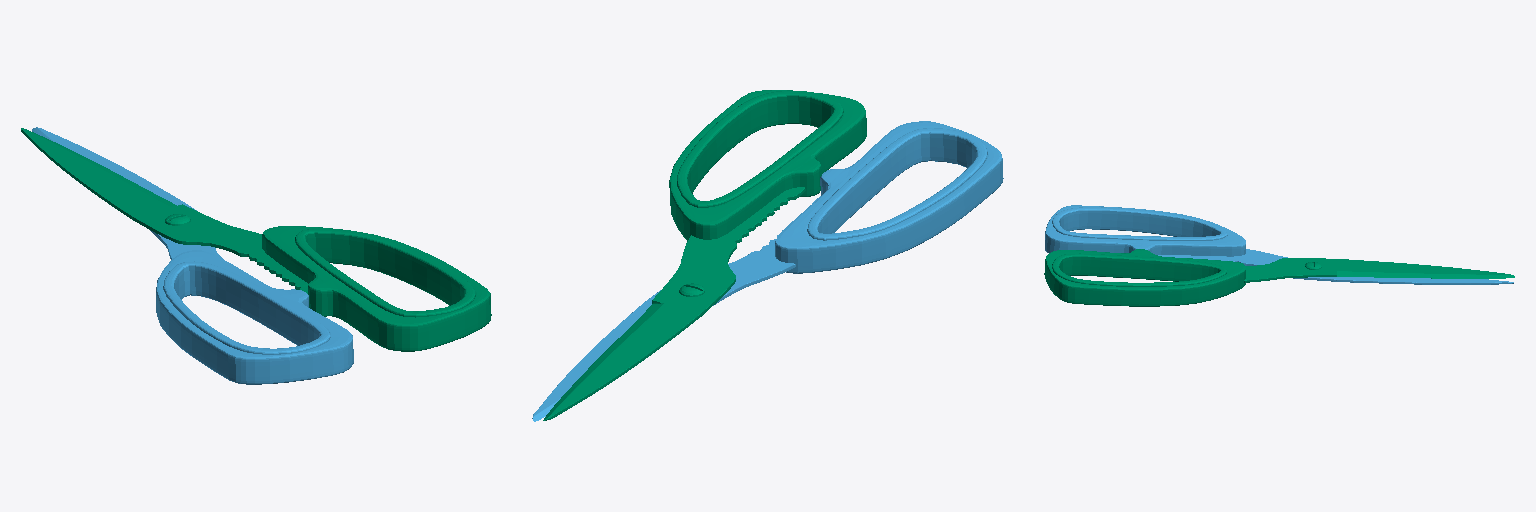
The robot description file, URDF, robot "partnet_37b7ae02-618a-4128-ba7d-9a9bd9bd2112":
<?xml version="1.0" ?>
<robot name="partnet_37b7ae02-618a-4128-ba7d-9a9bd9bd2112">
	<link name="base"/>
	<link name="link_0">
		<visual name="blade-11">
			<origin xyz="0.3778957206091483 0 -0.0018079555481076521"/>
			<geometry>
				<mesh filename="textured_objs/new-1.obj"/>
			</geometry>
		</visual>
		<visual name="handle-12">
			<origin xyz="0.3778957206091483 0 -0.0018079555481076521"/>
			<geometry>
				<mesh filename="textured_objs/new-0.obj"/>
			</geometry>
		</visual>
		<visual name="handle-12">
			<origin xyz="0.3778957206091483 0 -0.0018079555481076521"/>
			<geometry>
				<mesh filename="textured_objs/original-2.obj"/>
			</geometry>
		</visual>
		<visual name="handle-12">
			<origin xyz="0.3778957206091483 0 -0.0018079555481076521"/>
			<geometry>
				<mesh filename="textured_objs/original-1.obj"/>
			</geometry>
		</visual>
		<collision>
			<origin xyz="0.3778957206091483 0 -0.0018079555481076521"/>
			<geometry>
				<mesh filename="textured_objs/new-1.obj"/>
			</geometry>
		</collision>
		<collision>
			<origin xyz="0.3778957206091483 0 -0.0018079555481076521"/>
			<geometry>
				<mesh filename="textured_objs/new-0.obj"/>
			</geometry>
		</collision>
		<collision>
			<origin xyz="0.3778957206091483 0 -0.0018079555481076521"/>
			<geometry>
				<mesh filename="textured_objs/original-2.obj"/>
			</geometry>
		</collision>
		<collision>
			<origin xyz="0.3778957206091483 0 -0.0018079555481076521"/>
			<geometry>
				<mesh filename="textured_objs/original-1.obj"/>
			</geometry>
		</collision>
	</link>
	<joint name="joint_0" type="revolute">
		<origin xyz="-0.3778957206091483 0 0.0018079555481076521"/>
		<axis xyz="0 -1 0"/>
		<child link="link_0"/>
		<parent link="link_1"/>
		<limit lower="-0.050265482457436686" upper="0.722566310325652"/>
	</joint>
	<link name="link_1">
		<visual name="screw-10">
			<origin xyz="0 0 0"/>
			<geometry>
				<mesh filename="textured_objs/original-7.obj"/>
			</geometry>
		</visual>
		<visual name="blade-13">
			<origin xyz="0 0 0"/>
			<geometry>
				<mesh filename="textured_objs/new-3.obj"/>
			</geometry>
		</visual>
		<visual name="handle-14">
			<origin xyz="0 0 0"/>
			<geometry>
				<mesh filename="textured_objs/original-5.obj"/>
			</geometry>
		</visual>
		<visual name="handle-14">
			<origin xyz="0 0 0"/>
			<geometry>
				<mesh filename="textured_objs/new-2.obj"/>
			</geometry>
		</visual>
		<visual name="handle-14">
			<origin xyz="0 0 0"/>
			<geometry>
				<mesh filename="textured_objs/original-4.obj"/>
			</geometry>
		</visual>
		<collision>
			<origin xyz="0 0 0"/>
			<geometry>
				<mesh filename="textured_objs/original-7.obj"/>
			</geometry>
		</collision>
		<collision>
			<origin xyz="0 0 0"/>
			<geometry>
				<mesh filename="textured_objs/new-3.obj"/>
			</geometry>
		</collision>
		<collision>
			<origin xyz="0 0 0"/>
			<geometry>
				<mesh filename="textured_objs/original-5.obj"/>
			</geometry>
		</collision>
		<collision>
			<origin xyz="0 0 0"/>
			<geometry>
				<mesh filename="textured_objs/new-2.obj"/>
			</geometry>
		</collision>
		<collision>
			<origin xyz="0 0 0"/>
			<geometry>
				<mesh filename="textured_objs/original-4.obj"/>
			</geometry>
		</collision>
	</link>
	<joint name="joint_1" type="fixed">
		<origin rpy="1.570796326794897 0 -1.570796326794897" xyz="0 0 0"/>
		<child link="link_1"/>
		<parent link="base"/>
	</joint>
</robot>

--- Render facts (derived) ---
3 views of the same robot in one strip: view 1: azimuth 30°, elevation 25°; view 2: azimuth 150°, elevation 25°; view 3: azimuth 270°, elevation 25° (orthographic).
Model partnet_37b7ae02-618a-4128-ba7d-9a9bd9bd2112 with 3 links and 2 joints (1 revolute, 1 fixed), rooted at base, posed all joints at 0.
Visible links, largest first — view 1: link_1, link_0; view 2: link_1, link_0; view 3: link_1, link_0.
Boxes of the visible links, left/top/right/bottom form: link_1: left=21, top=128, right=491, bottom=351; link_0: left=32, top=127, right=353, bottom=384; link_1: left=543, top=90, right=866, bottom=420; link_0: left=532, top=121, right=1003, bottom=421; link_1: left=1044, top=249, right=1514, bottom=306; link_0: left=1045, top=205, right=1513, bottom=284.
Bounding box of the posed robot: 0.6195 × 1.47 × 0.1341 m (x, y, z).
9 mesh visuals loaded from 9 distinct referenced files (9 OBJ).